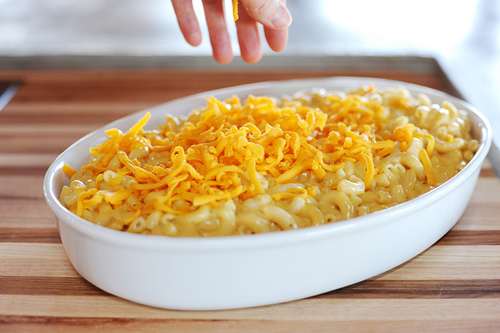macncheese: (51, 82, 479, 233)
